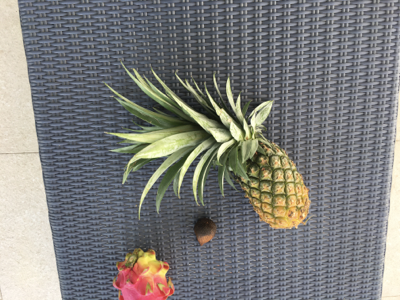dragon fruit: (110, 250, 175, 300)
pineapple: (107, 62, 312, 247)
snake fruit: (194, 217, 217, 246)
